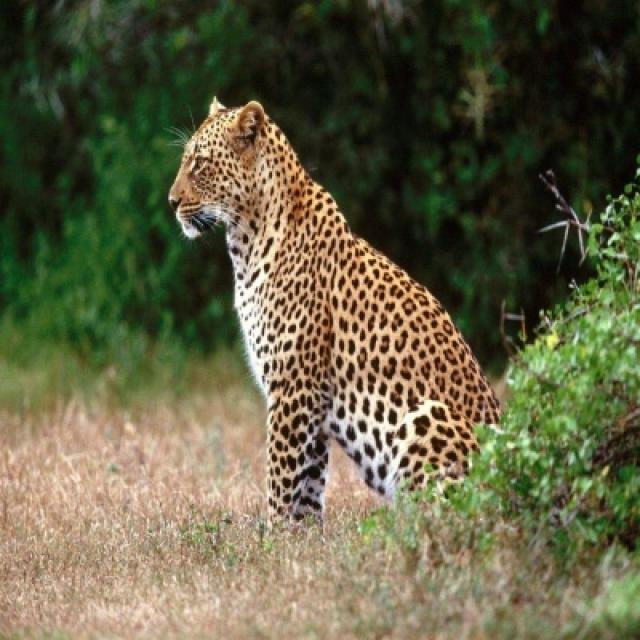Jaguar: (168, 101, 502, 525)
